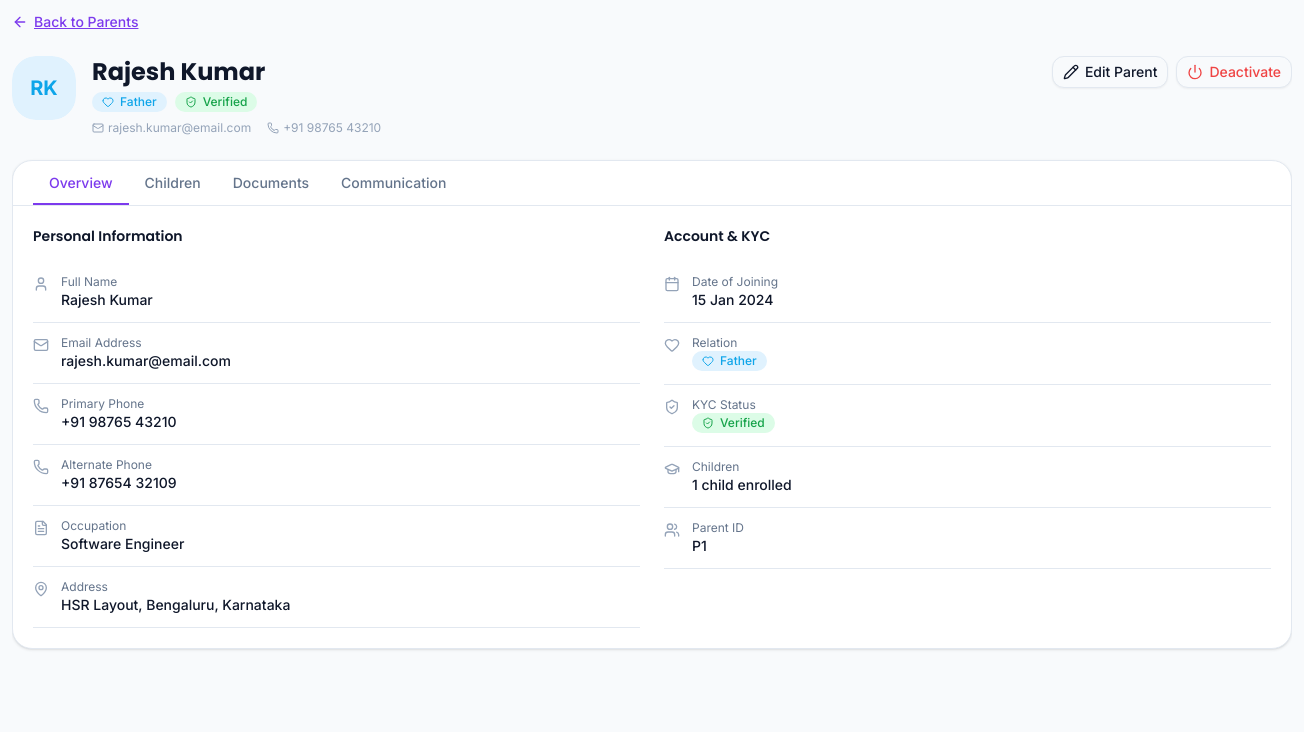
it: ParentDetailPage › Tabs › switches to Children tab when clicked
Click the button "Children" at (173, 183), box [128,161,217,205]
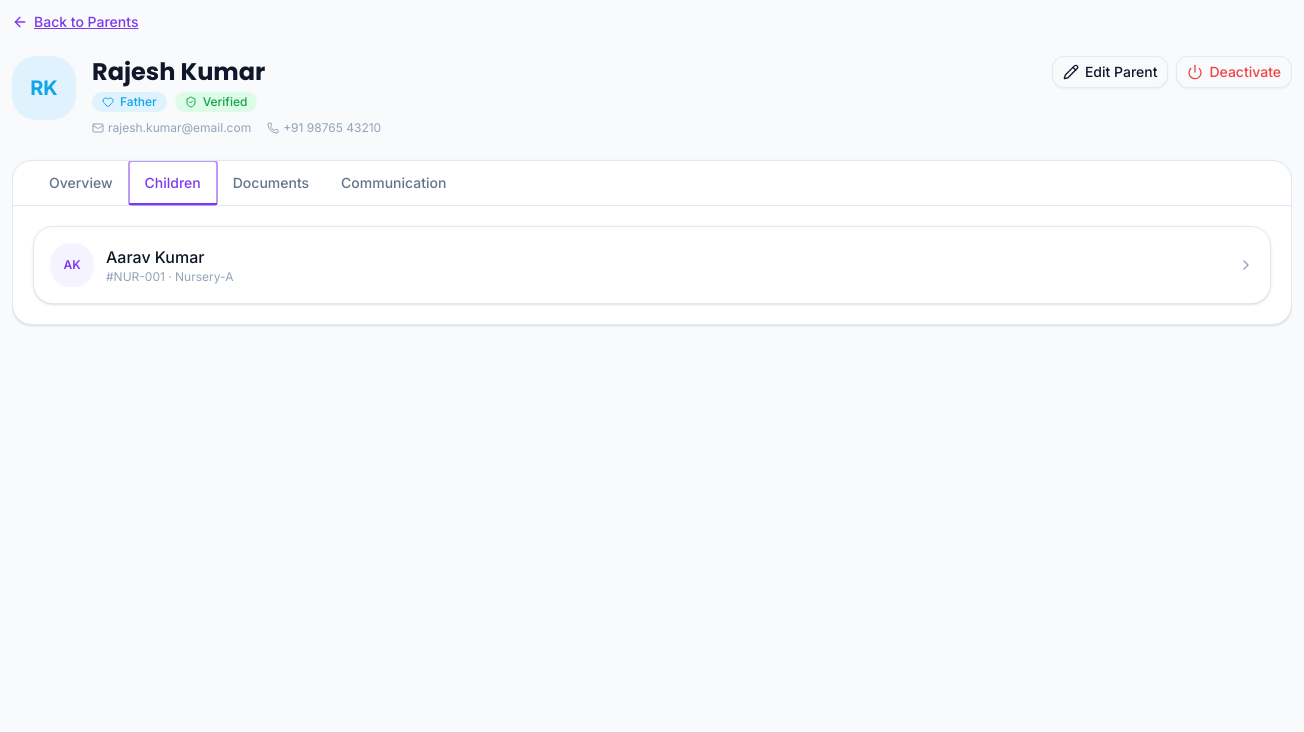
Check: the text "Aarav Kumar" is shown, box [106,247,204,267]
